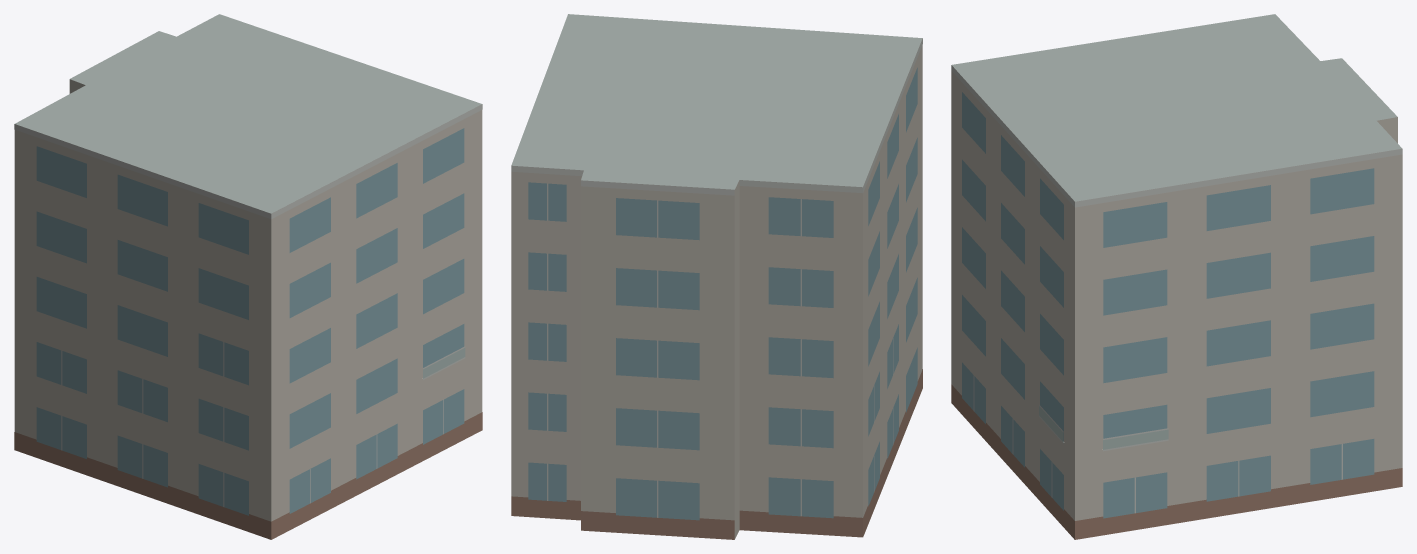
File: survey-upis-32477442.glb
The picture shows the model from 3 angles, left to right: view 1: azimuth 30°, elevation 25°; view 2: azimuth 150°, elevation 25°; view 3: azimuth 270°, elevation 25°; orthographic projection. The views are drawn at different scales.
Parts seen in each view (by area): view 1: survey-upis-32477442.tmp; view 2: survey-upis-32477442.tmp; view 3: survey-upis-32477442.tmp.
Boxes of the visible parts, x1,y1,x2,y2 form: survey-upis-32477442.tmp: (14, 14, 482, 539); survey-upis-32477442.tmp: (511, 14, 922, 539); survey-upis-32477442.tmp: (951, 14, 1402, 539).
Bounding box in the file's own units: 16.92 × 14.2 × 17.18.
